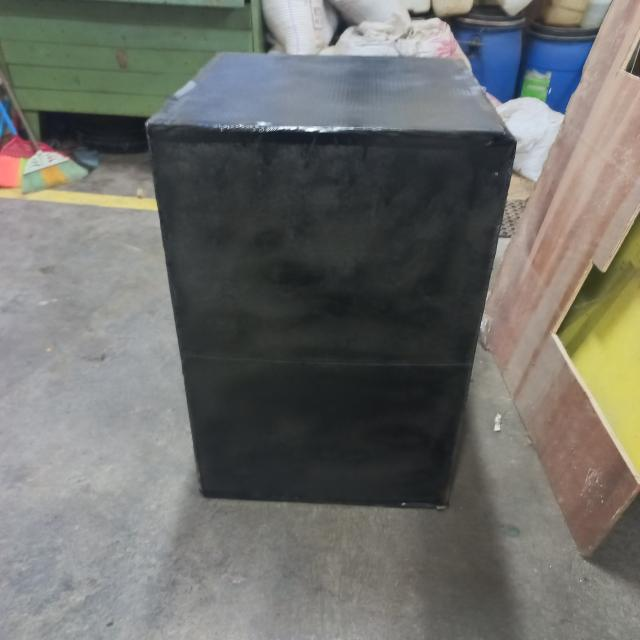obstacle: (145, 48, 518, 513)
